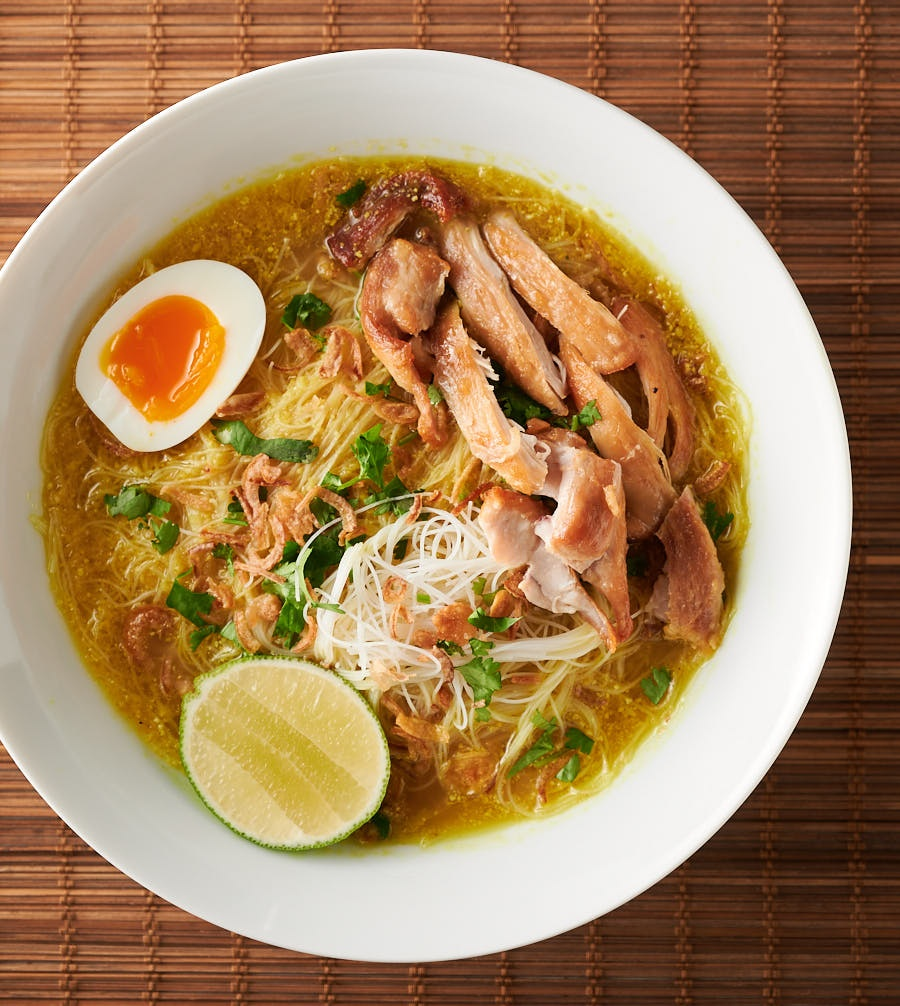soto: (33, 136, 748, 870)
